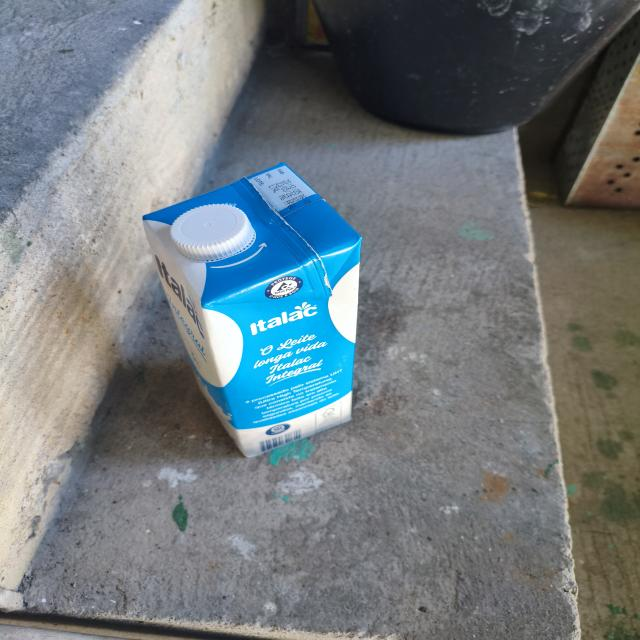Caixa de Leite: (132, 152, 368, 462)
